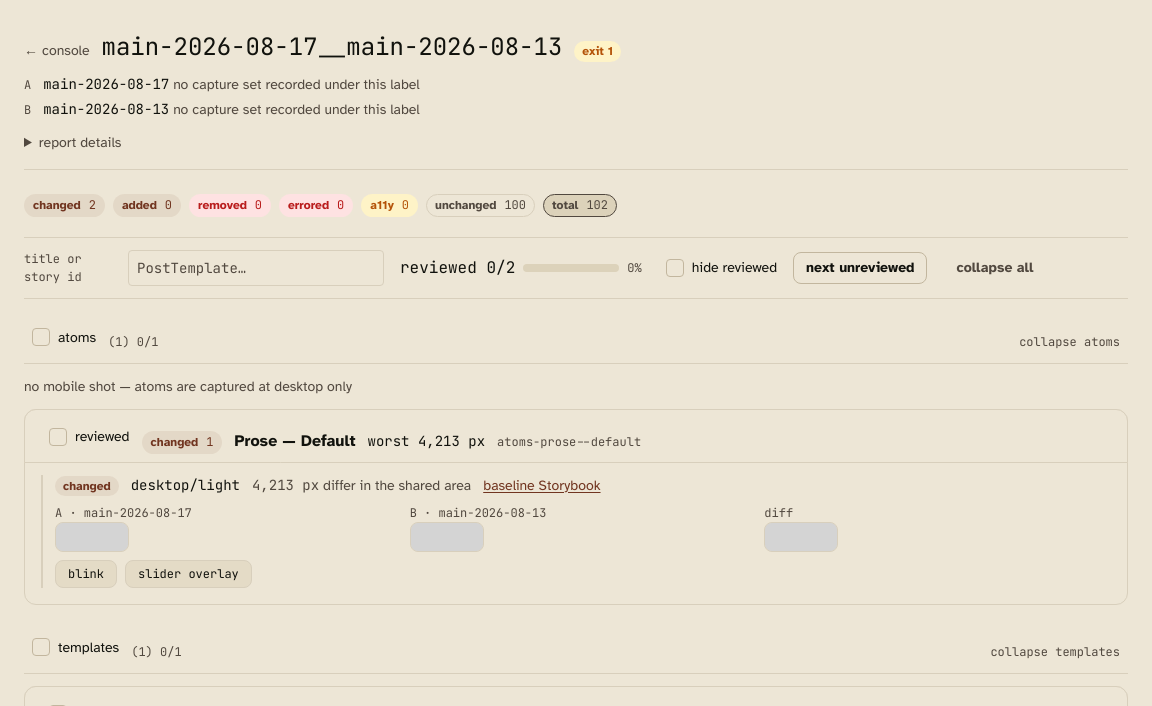
Scenario: the review accelerators › collapses every section at once
Click the button "collapse all" at (995, 268), box [943,252,1046,284]
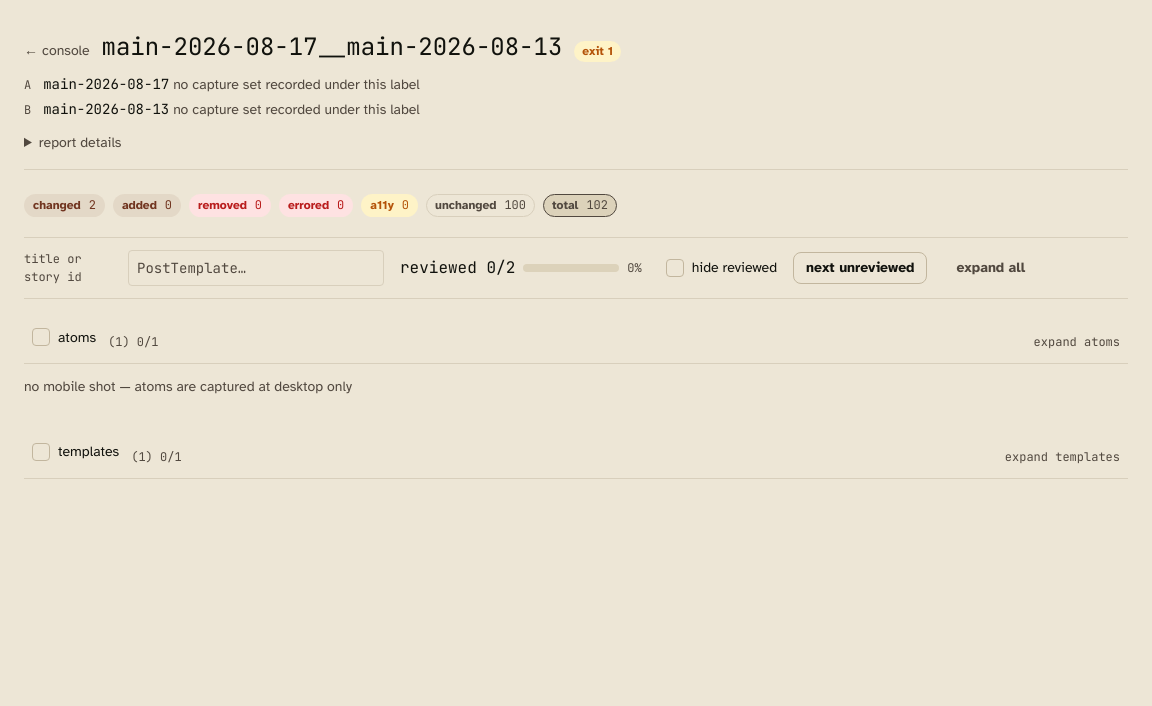
Result: the button "expand all" is shown at [943,252,1038,284]
